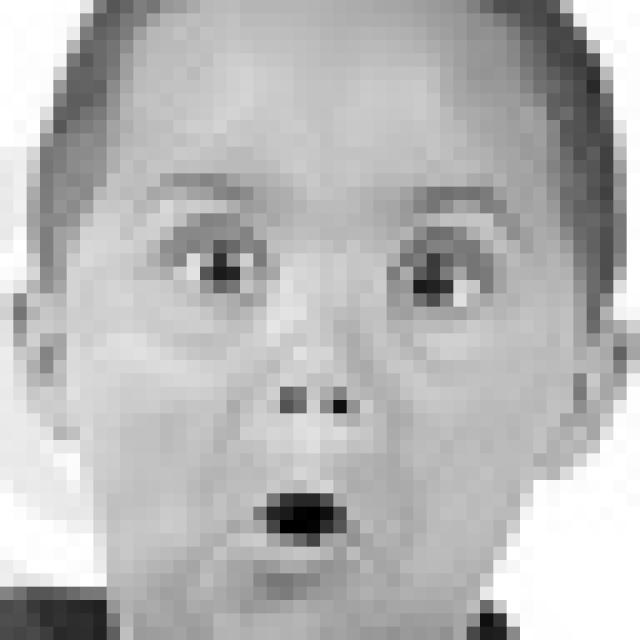surprise: (119, 166, 539, 581)
